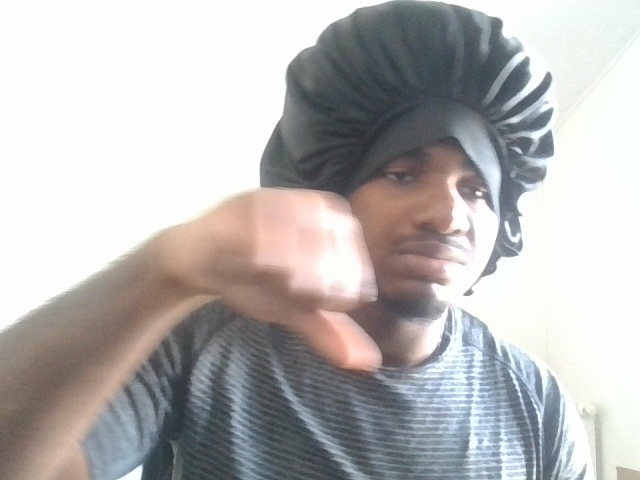Yes: (112, 162, 394, 384)
